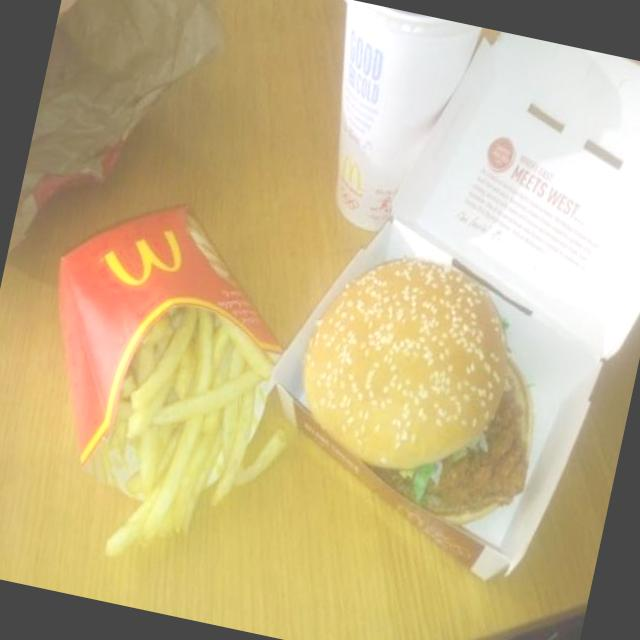French Fries: (80, 287, 282, 552)
Hamburger: (277, 233, 573, 540)
